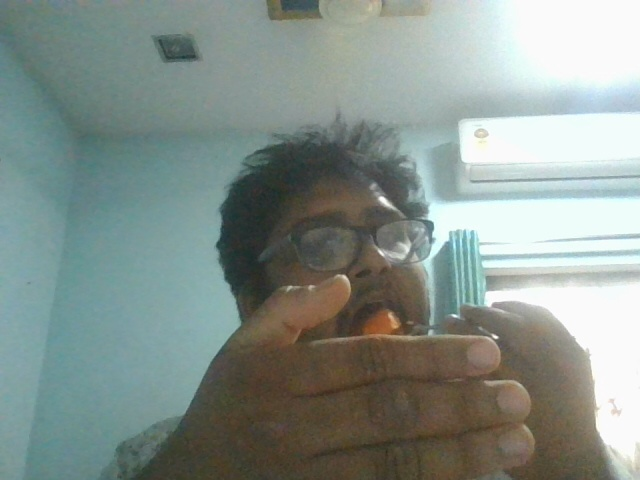LEFT: (206, 280, 548, 480)
